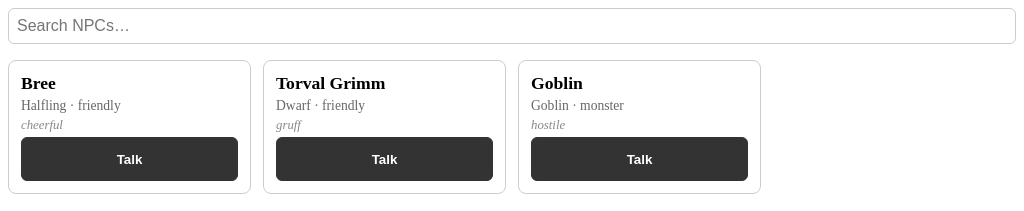
Test case: NpcCatalog › filters NPCs by name when search is used
The image size is (1024, 211).
In the field with placeholder "Search NPCs…": [512, 26] box [8,8,1016,44], type "bree"
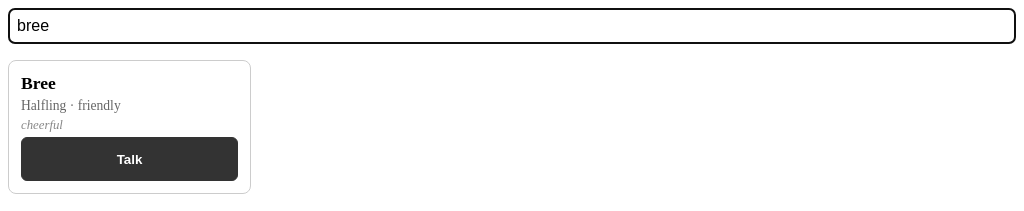
Expected: the text "Bree" is shown, [21,73,56,93]
Expected: the text "Torval Grimm" is gone
Expected: the text "Goblin" is gone
